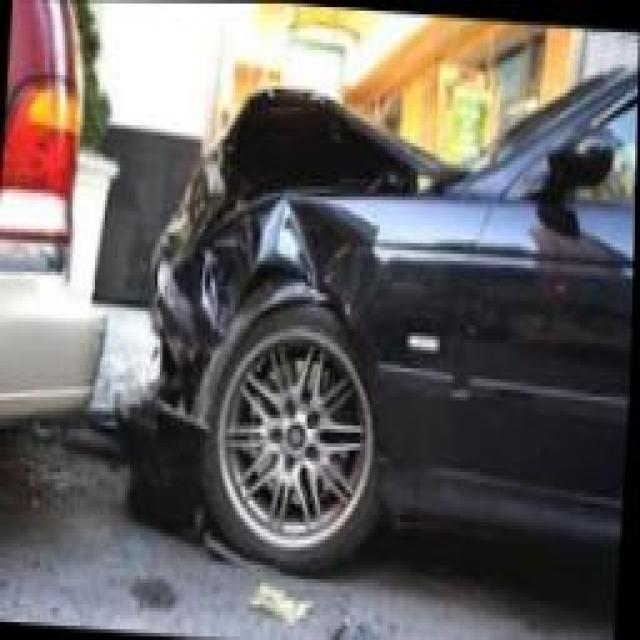Bonnet: (167, 87, 469, 258)
Bumper: (121, 236, 210, 541)
Fender: (150, 192, 408, 378)
